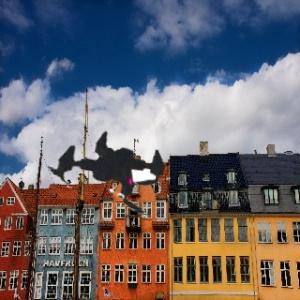drone: (22, 91, 197, 266)
